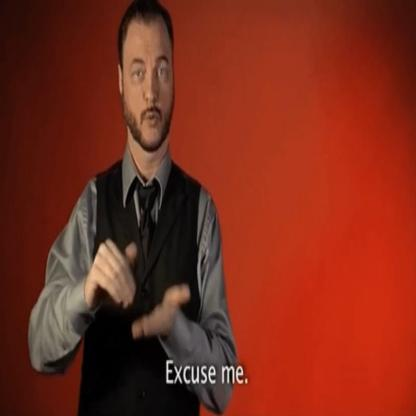ExcuseMe: (29, 1, 236, 416)
